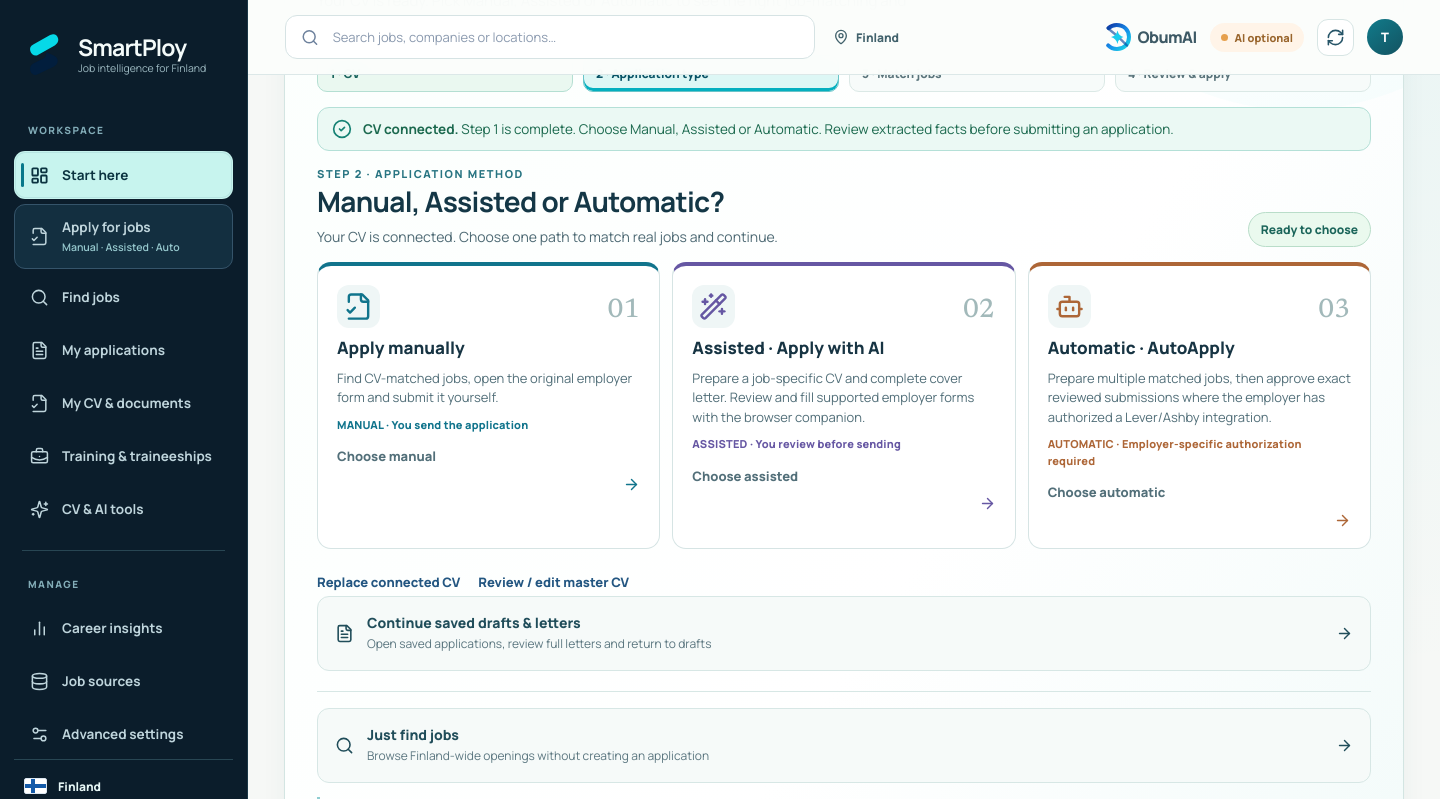
Test: actual SmartPloy App first-use and application handoff › SP87 previously uploaded CV unlocks method cards on the first-use screen
(page scrolled)
Step 1. Click the button "Assisted · Apply with AI" → (844,405), box [672,262,1016,549]
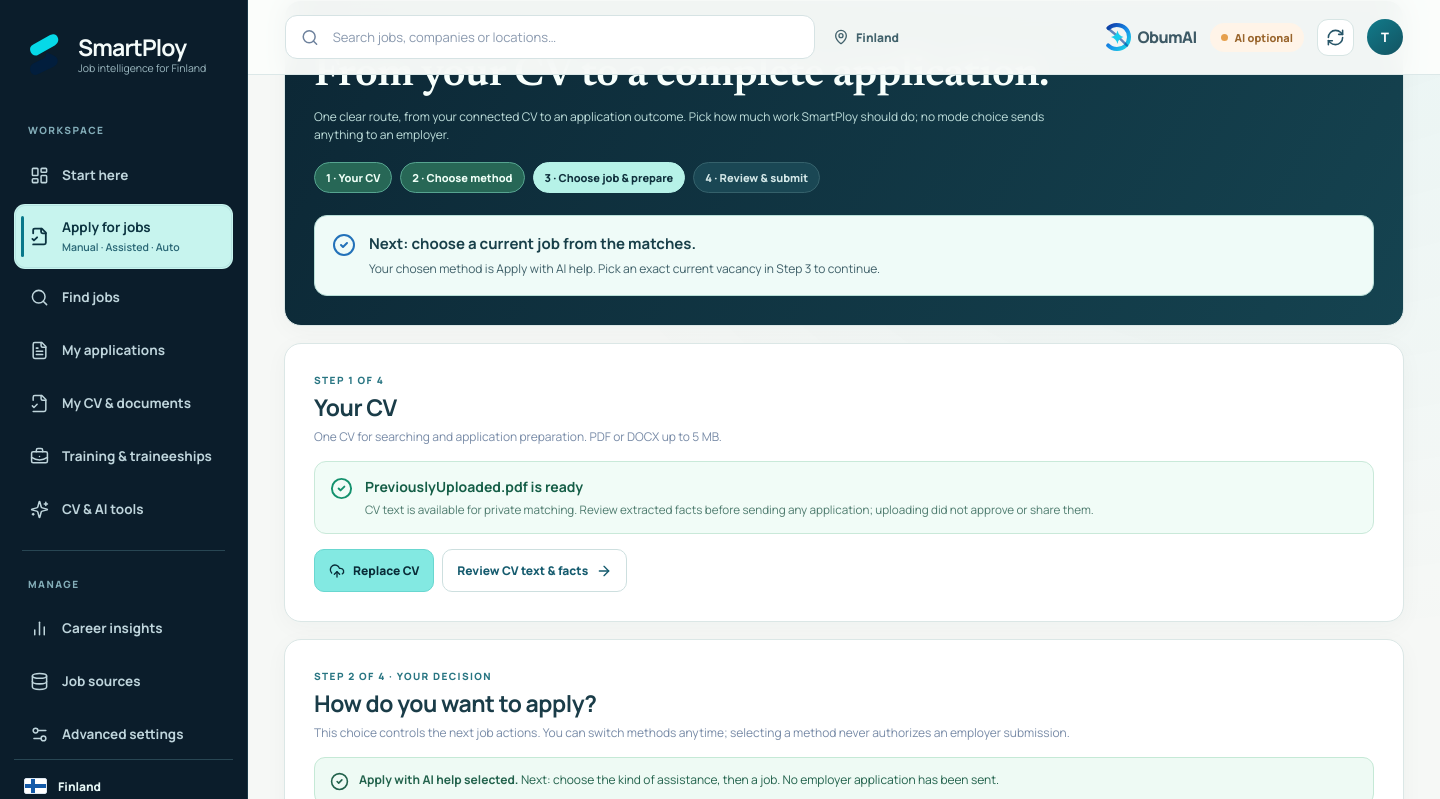
Check: the heading "How do you want to apply?" is shown, box [314,687,596,719]
Check: the text "Apply with AI help selected." is shown, box [359,772,518,788]
